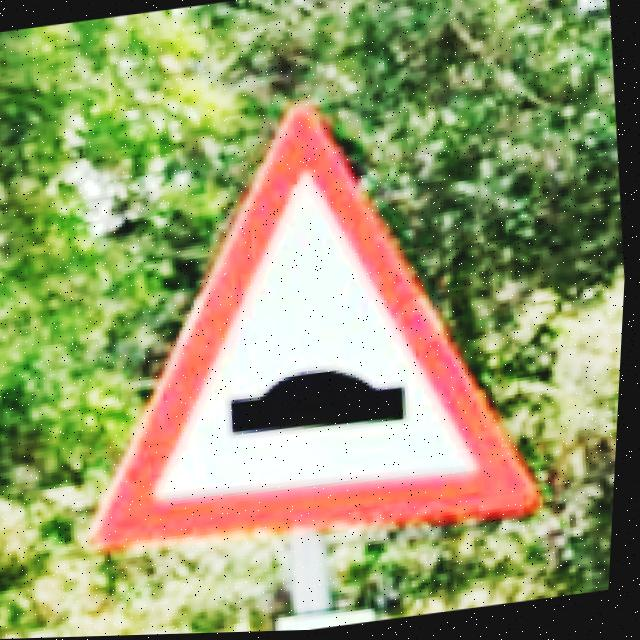hump: (94, 109, 544, 551)
